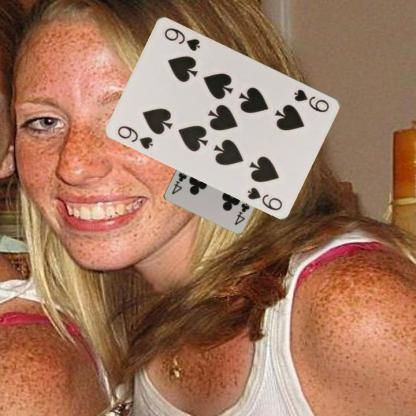4c: (232, 200, 250, 226)
9s: (291, 86, 331, 114), (115, 123, 155, 150)
